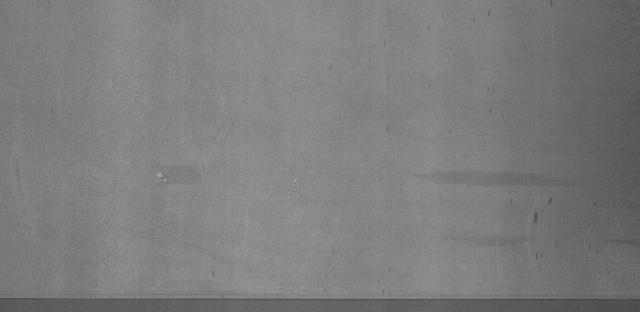welding_line: (2, 290, 639, 309)
